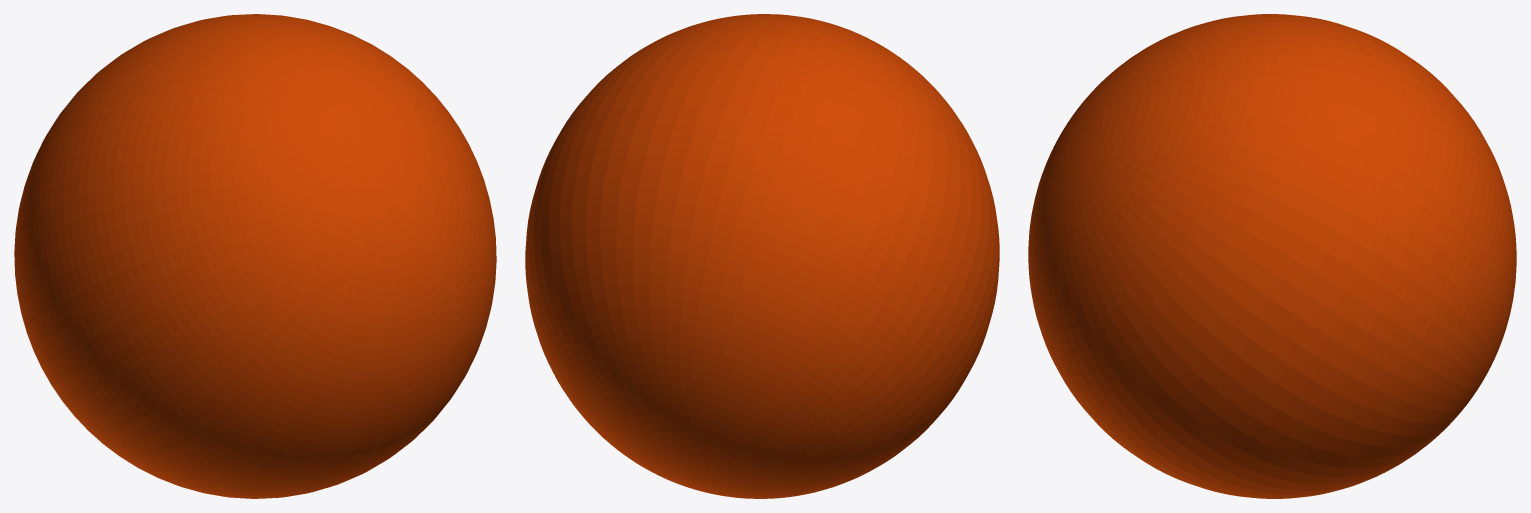
Rendered from zygote_fbx.fbx.
The picture shows the model from 3 angles, left to right: view 1: azimuth 30°, elevation 25°; view 2: azimuth 150°, elevation 25°; view 3: azimuth 270°, elevation 25°; orthographic projection.
Parts seen in each view (by area): view 1: zygote; view 2: zygote; view 3: zygote.
Boxes of the visible parts, x1,y1,x2,y2 form: zygote: [14, 14, 496, 498]; zygote: [525, 14, 999, 498]; zygote: [1028, 14, 1516, 498].
Size of the model in its own units: 47.93 by 48.87 by 49.
